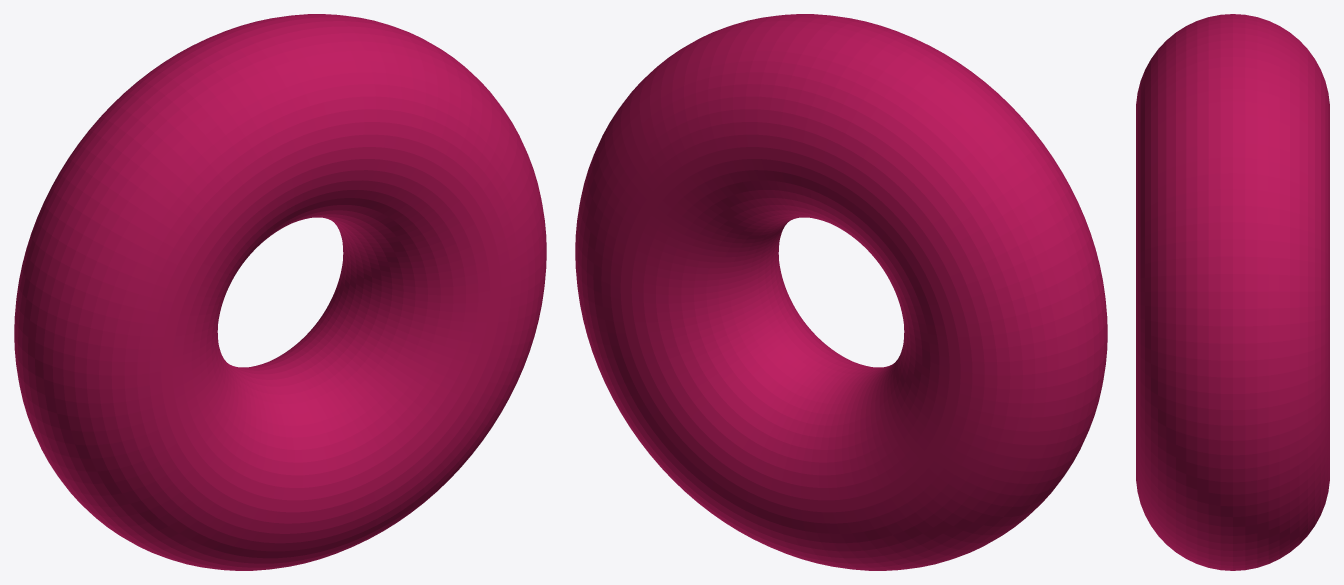
3 renders of one model, left to right at view 1: azimuth 30°, elevation 25°; view 2: azimuth 150°, elevation 25°; view 3: azimuth 270°, elevation 25°, orthographic. The views are drawn at different scales.
Visible parts, largest first — view 1: world; view 2: world; view 3: world.
Boxes of the visible parts, box(x1,y1,x2,y2) form: world: box(14, 14, 546, 570); world: box(575, 14, 1107, 570); world: box(1136, 14, 1329, 570).
Bounding box in the file's own units: 25.6 × 25.6 × 8.92.
